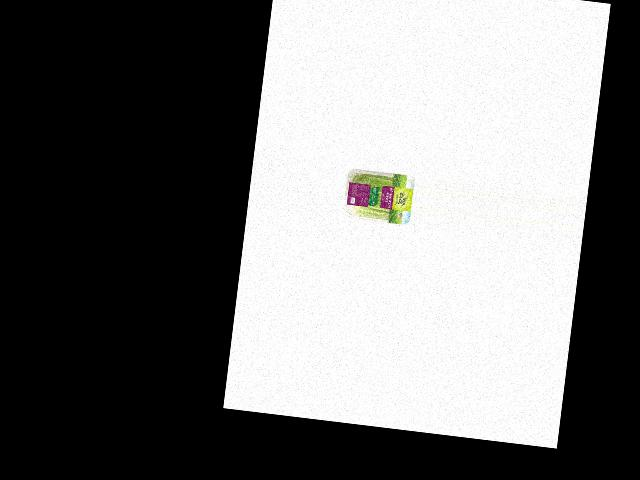lettuce: (341, 167, 410, 225)
